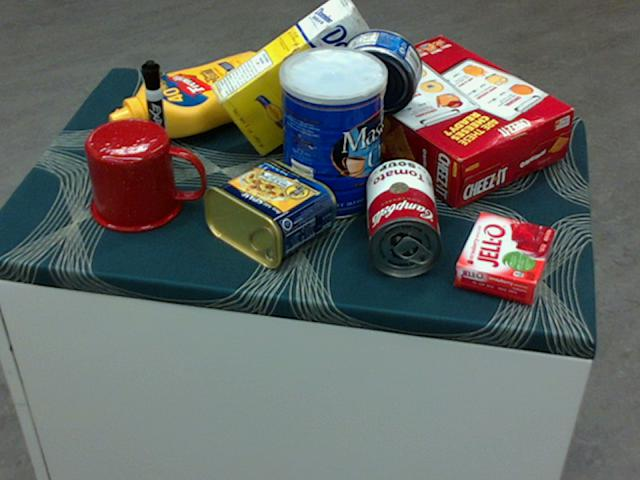cracker_box: (331, 34, 570, 208)
gelatin_box: (454, 211, 552, 302)
large_marker: (139, 60, 171, 167)
master_chef_can: (278, 47, 386, 221)
mug: (85, 117, 204, 232)
mustard_bottle: (107, 51, 281, 137)
potted_meat_can: (201, 159, 335, 268)
sugar_box: (207, 0, 391, 157)
tomato_soup_can: (365, 158, 440, 276)
tuna_fish_can: (335, 27, 422, 113)
